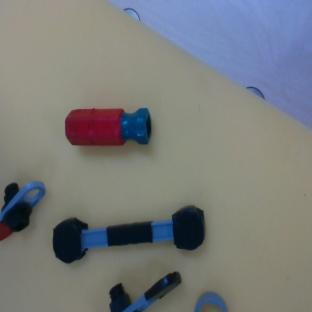part_1_bad: (102, 260, 187, 312)
part_1_good: (0, 168, 49, 249)
part_2_good: (65, 108, 151, 145)
part_3_bad: (50, 203, 207, 265)
part_3_good: (195, 292, 227, 311)
